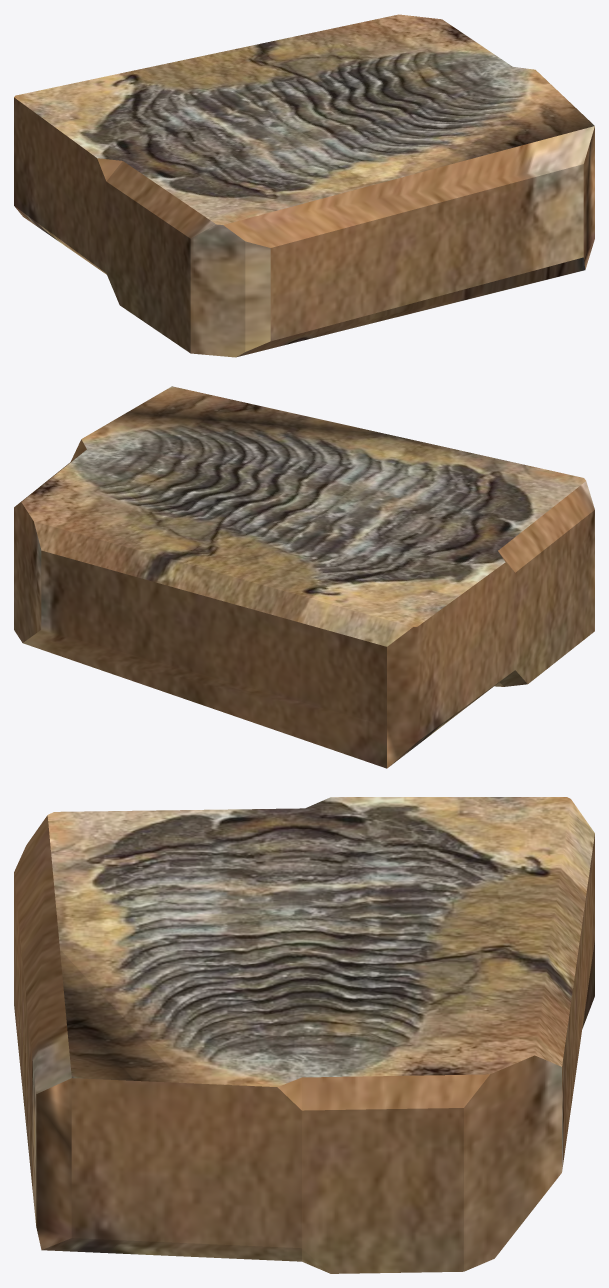
File: Ditomopyge.glb
The picture shows the model from 3 angles, top to bottom: view 1: azimuth 30°, elevation 25°; view 2: azimuth 150°, elevation 25°; view 3: azimuth 270°, elevation 25°; orthographic projection. The views are drawn at different scales.
Parts seen in each view (by area): view 1: Ditomopyge; view 2: Ditomopyge; view 3: Ditomopyge.
Part boxes in pixels (x1,y1,x2,y2): Ditomopyge: (14, 14, 594, 357); Ditomopyge: (14, 386, 594, 768); Ditomopyge: (14, 797, 594, 1273).
Bounding box in the file's own units: 1.98 × 0.5898 × 1.67.
1 material, 1 textured.
